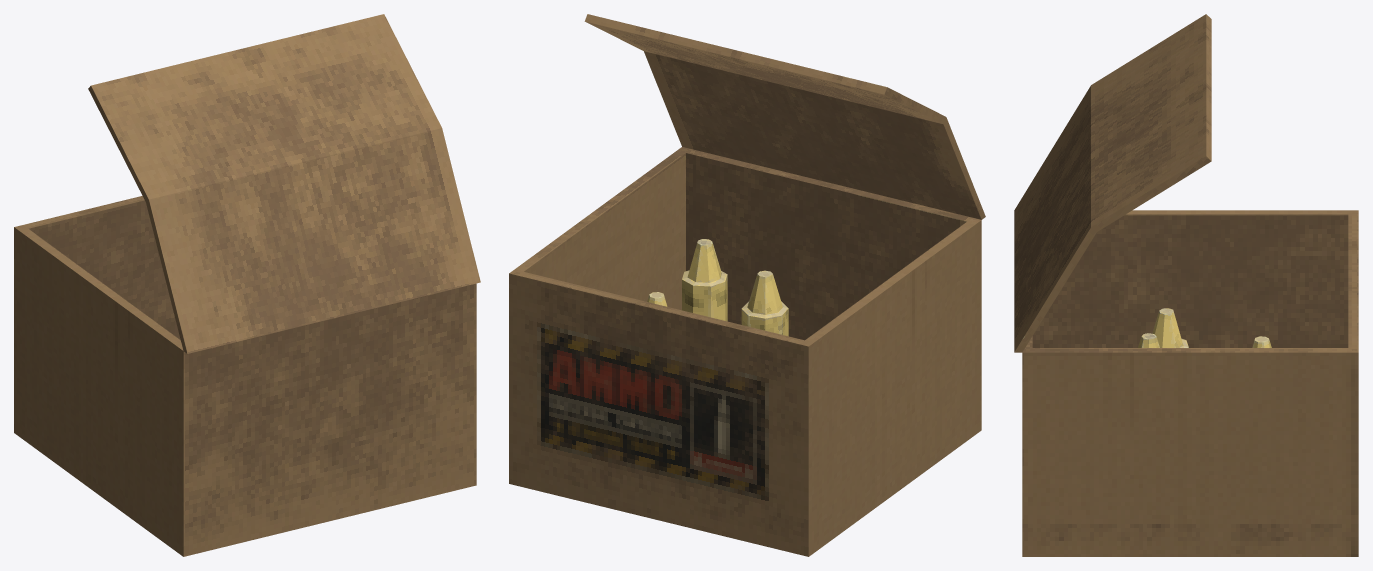
File: BulletsBox.glb
3 renders of one model, left to right at view 1: azimuth 30°, elevation 25°; view 2: azimuth 150°, elevation 25°; view 3: azimuth 270°, elevation 25°, orthographic. The views are drawn at different scales.
Parts seen in each view (by area): view 1: Cube; view 2: Cube, Cylinder, Cylinder.001; view 3: Cube, Cylinder.001.
Boxes of the visible parts, bbox=[...] form: Cube: bbox=[14, 14, 480, 556]; Cube: bbox=[509, 14, 985, 556]; Cylinder: bbox=[682, 239, 727, 321]; Cylinder.001: bbox=[741, 270, 788, 336]; Cube: bbox=[1014, 14, 1358, 556]; Cylinder.001: bbox=[1152, 308, 1188, 347].
Bounding box in the file's own units: 0.2096 × 0.2756 × 0.2146.
1 material, 1 textured.
